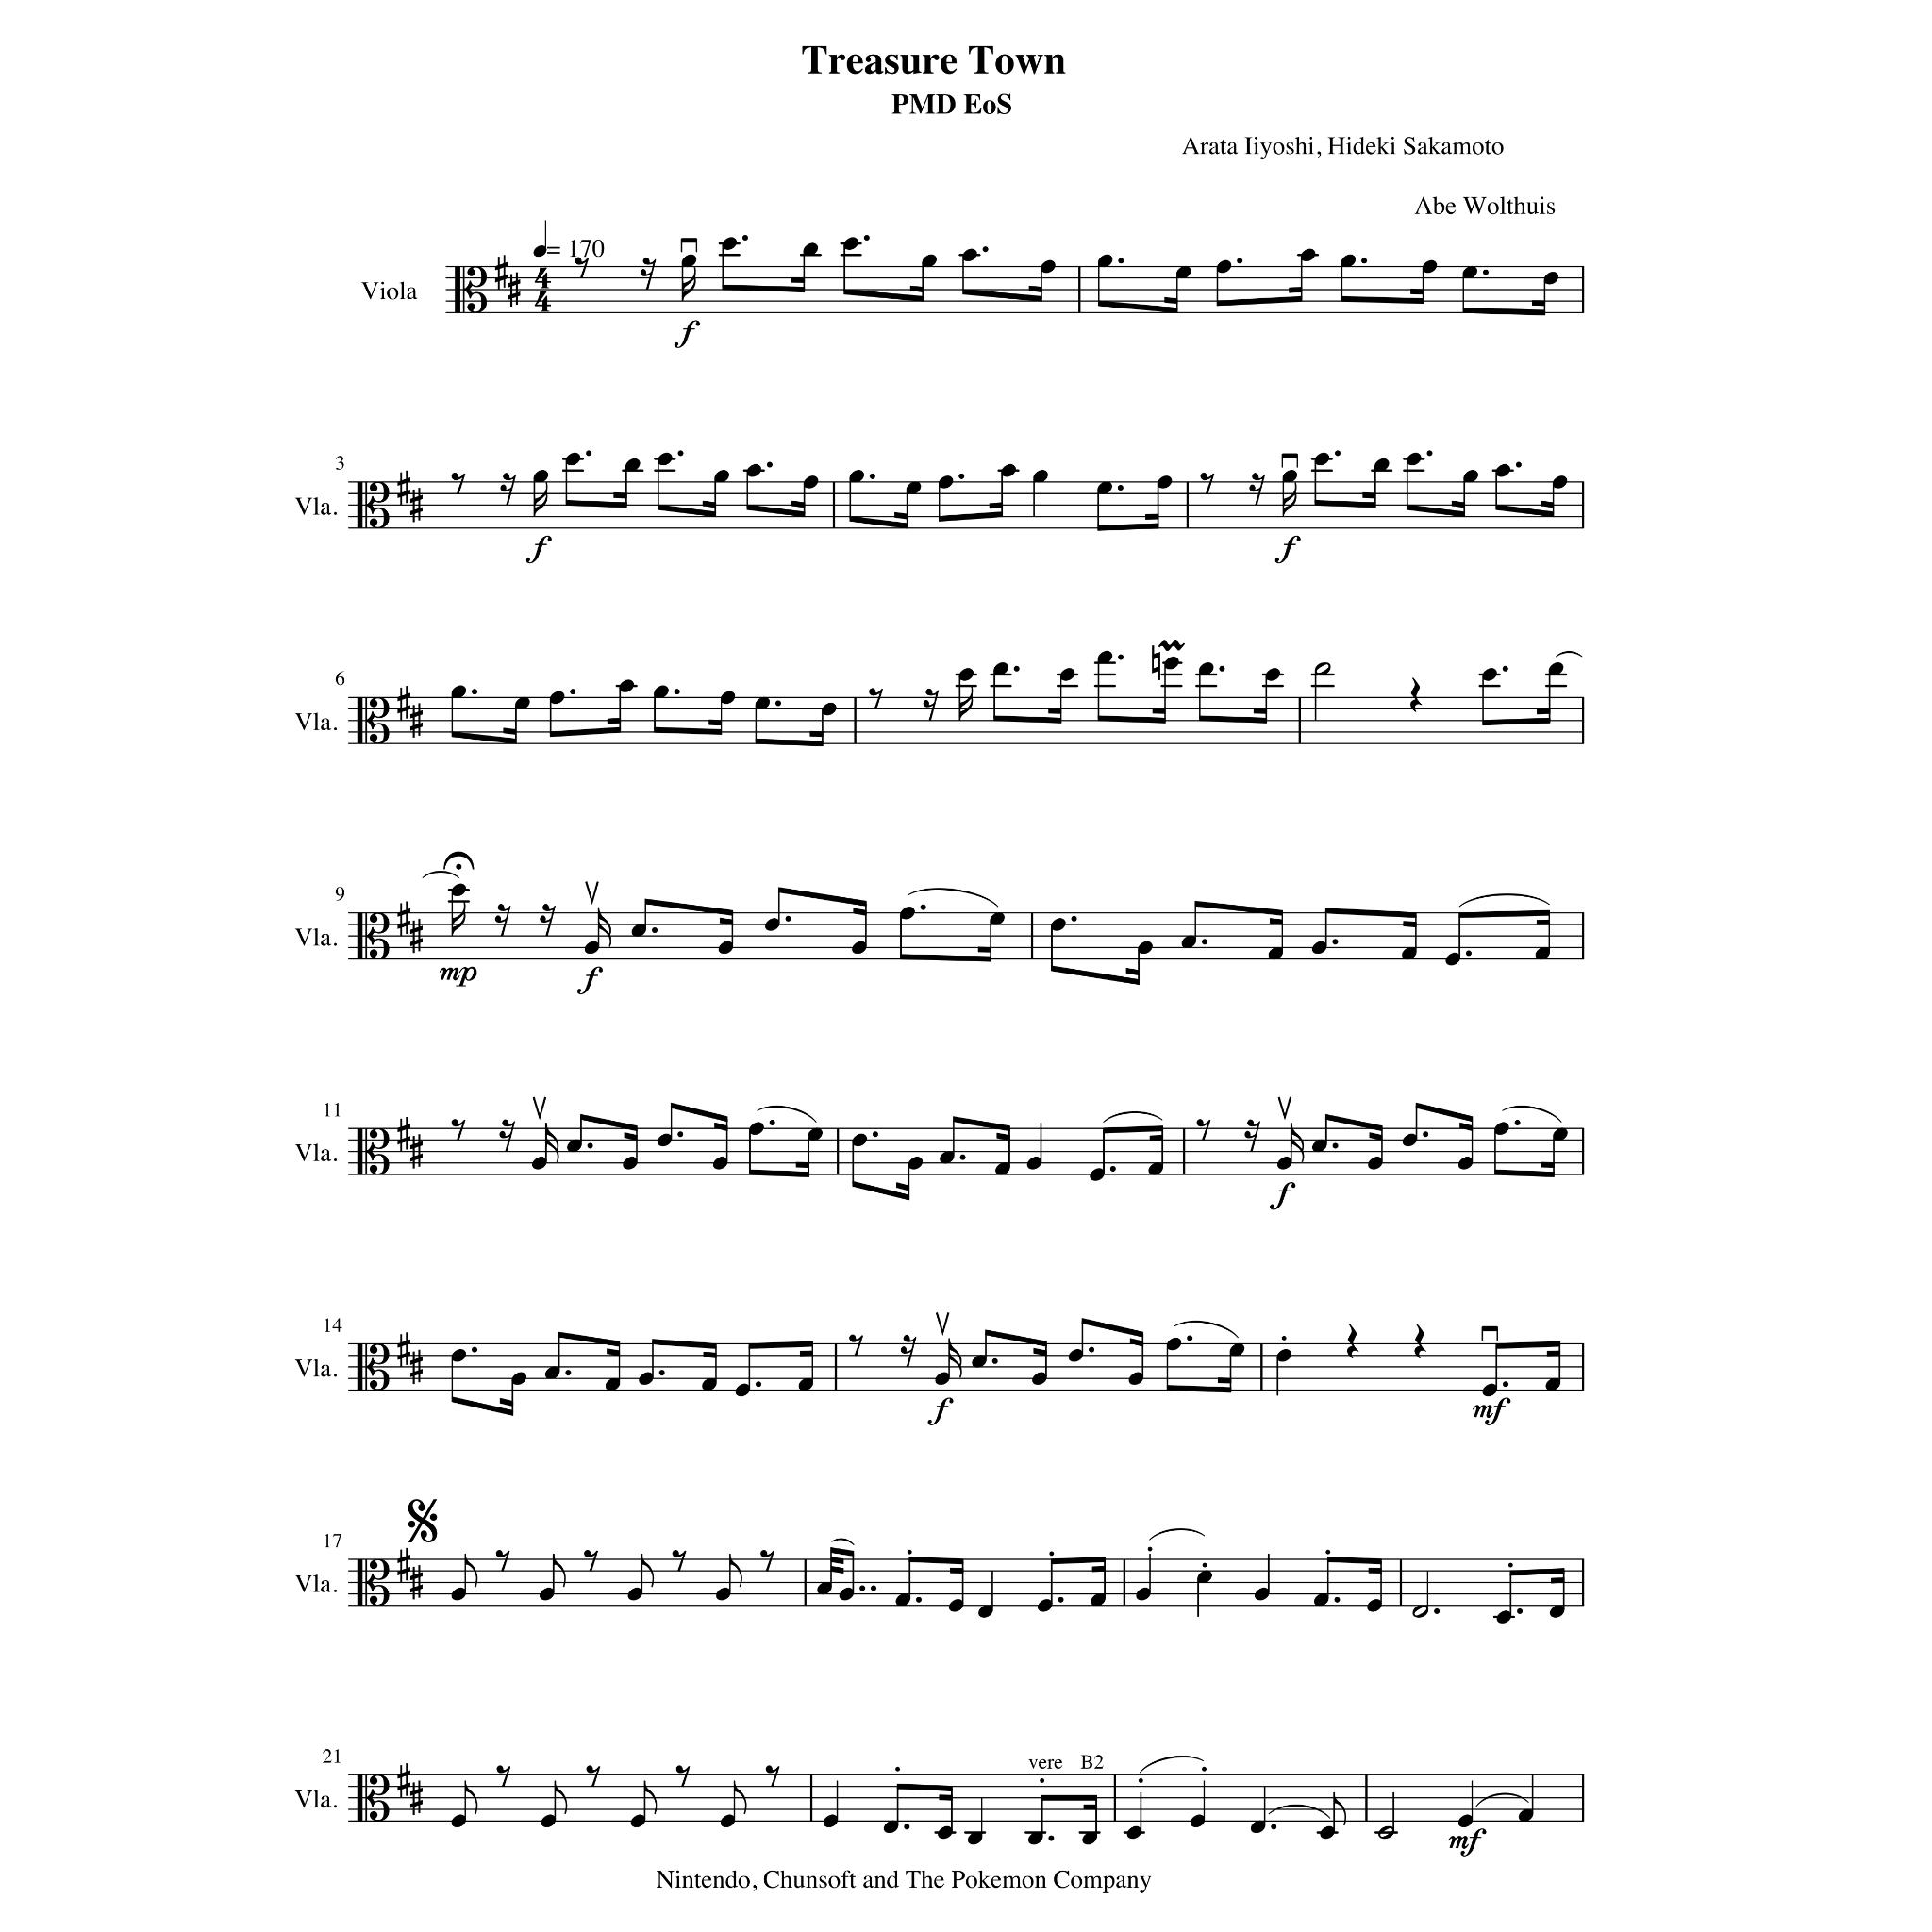flag16thDown: (681, 267, 697, 301), (959, 686, 973, 722), (451, 901, 465, 936), (1283, 483, 1297, 517), (534, 483, 548, 517)
flag16thUp: (598, 908, 612, 948), (1290, 1123, 1304, 1164), (545, 1123, 559, 1164), (948, 1338, 962, 1378)
flag8thUp: (640, 1553, 655, 1587), (552, 1553, 566, 1587), (729, 1553, 743, 1587), (464, 1553, 478, 1587), (1332, 1792, 1346, 1826), (644, 1782, 658, 1815), (464, 1782, 478, 1815), (556, 1782, 568, 1815), (734, 1782, 747, 1815)
noteheadBlack: (1000, 464, 1017, 478), (1155, 476, 1173, 490), (745, 464, 763, 478), (801, 476, 819, 490), (1228, 1343, 1246, 1357), (816, 1582, 833, 1596), (1215, 260, 1231, 274), (1339, 255, 1355, 269), (1097, 255, 1113, 269), (1177, 265, 1192, 280), (1461, 265, 1477, 280), (1421, 260, 1437, 274), (681, 255, 697, 269), (1040, 260, 1056, 274), (922, 255, 938, 269), (1552, 476, 1568, 490), (1373, 458, 1389, 472), (1495, 464, 1511, 478), (625, 458, 640, 472), (938, 476, 954, 490), (1164, 656, 1180, 671), (1198, 662, 1214, 676), (993, 662, 1008, 676), (1548, 662, 1564, 676), (619, 679, 635, 694), (548, 692, 564, 706), (821, 702, 837, 717), (720, 692, 736, 706), (754, 697, 770, 711), (1180, 936, 1196, 950), (1267, 947, 1283, 961), (1311, 941, 1327, 955), (1138, 941, 1154, 955), (1401, 947, 1417, 961), (1534, 947, 1550, 961), (584, 941, 600, 955), (851, 941, 867, 955), (899, 906, 915, 920), (718, 941, 734, 955), (1311, 1139, 1327, 1154), (1090, 1168, 1106, 1182), (566, 1139, 582, 1154), (1166, 1338, 1182, 1352), (1276, 1348, 1292, 1362), (1031, 1371, 1047, 1385), (1067, 1348, 1083, 1362), (543, 1366, 559, 1380), (639, 1371, 655, 1385), (451, 1348, 467, 1362), (511, 1371, 527, 1385), (934, 1371, 950, 1385), (1196, 1569, 1212, 1583), (1253, 1587, 1269, 1601), (1136, 1587, 1152, 1601), (1495, 1610, 1511, 1624), (538, 1587, 554, 1601), (626, 1587, 642, 1601), (715, 1587, 731, 1601), (451, 1587, 467, 1601), (839, 1587, 855, 1601), (966, 1831, 982, 1845), (1249, 1819, 1265, 1833), (1189, 1813, 1205, 1828), (1026, 1831, 1042, 1845), (1081, 1831, 1097, 1845), (1125, 1826, 1141, 1840), (1518, 1808, 1534, 1822), (1458, 1813, 1474, 1828), (1320, 1826, 1336, 1840), (540, 1813, 556, 1828), (630, 1813, 646, 1828), (451, 1813, 467, 1828), (883, 1819, 899, 1833), (936, 1826, 952, 1840), (823, 1813, 839, 1828), (1299, 249, 1316, 262), (801, 244, 819, 257), (1313, 453, 1330, 465), (957, 669, 975, 681), (630, 925, 648, 938), (701, 1378, 718, 1391), (1313, 1594, 1330, 1606), (515, 697, 529, 711), (1129, 1371, 1143, 1385), (720, 1813, 734, 1828), (1543, 272, 1559, 285), (722, 237, 738, 249), (962, 249, 978, 262), (842, 237, 858, 249), (1281, 471, 1297, 483), (1033, 471, 1049, 483), (1097, 481, 1113, 494), (1407, 453, 1422, 465), (1463, 471, 1479, 483), (564, 453, 580, 465), (656, 453, 672, 465), (713, 471, 729, 483), (533, 471, 548, 483), (906, 481, 922, 494), (849, 471, 865, 483), (1265, 669, 1281, 681), (1060, 669, 1076, 681), (1097, 651, 1113, 663), (1481, 669, 1497, 681), (653, 686, 669, 699), (451, 686, 467, 699), (1049, 918, 1065, 931), (1445, 954, 1461, 966), (451, 885, 467, 897), (989, 913, 1005, 925), (764, 918, 780, 931), (1277, 1157, 1293, 1169), (994, 1162, 1010, 1175), (1026, 1157, 1042, 1169), (1552, 1129, 1568, 1141), (1368, 1157, 1384, 1169), (1401, 1134, 1417, 1146), (1458, 1157, 1474, 1169), (1493, 1122, 1509, 1134), (623, 1157, 639, 1169), (656, 1134, 672, 1146), (711, 1157, 727, 1169), (531, 1157, 547, 1169), (851, 1134, 867, 1146), (908, 1157, 924, 1169), (748, 1122, 764, 1134), (939, 1152, 955, 1164), (807, 1129, 823, 1141), (971, 1355, 987, 1368), (1545, 1378, 1560, 1391), (1481, 1384, 1497, 1396), (734, 1384, 750, 1396), (798, 1378, 814, 1391), (977, 1605, 993, 1617), (1037, 1599, 1053, 1612), (1090, 1594, 1106, 1606), (1548, 1605, 1564, 1617), (1366, 1599, 1382, 1612), (895, 1594, 911, 1606), (948, 1599, 964, 1612), (1148, 1162, 1162, 1175), (605, 1378, 619, 1391)
noteheadHalf: (1376, 1826, 1394, 1840), (1315, 662, 1330, 676), (1412, 1605, 1428, 1617)
rest16th: (1247, 472, 1265, 506), (499, 472, 517, 506), (922, 688, 939, 722), (494, 904, 511, 938), (538, 904, 556, 938), (640, 258, 656, 292), (1244, 1120, 1260, 1152), (499, 1120, 515, 1152), (901, 1336, 916, 1368)
rest8th: (449, 472, 465, 495), (1196, 1118, 1212, 1141), (449, 1118, 465, 1141), (847, 1334, 863, 1357), (759, 1550, 775, 1573), (586, 1766, 602, 1787), (495, 1766, 511, 1787), (764, 1766, 780, 1787), (575, 257, 589, 280), (1200, 472, 1214, 495), (869, 688, 883, 711), (584, 1550, 598, 1573), (672, 1550, 686, 1573), (495, 1550, 510, 1573), (676, 1766, 690, 1787)
restQuarter: (1410, 678, 1422, 713), (1346, 1323, 1359, 1359), (1414, 1323, 1426, 1359)
